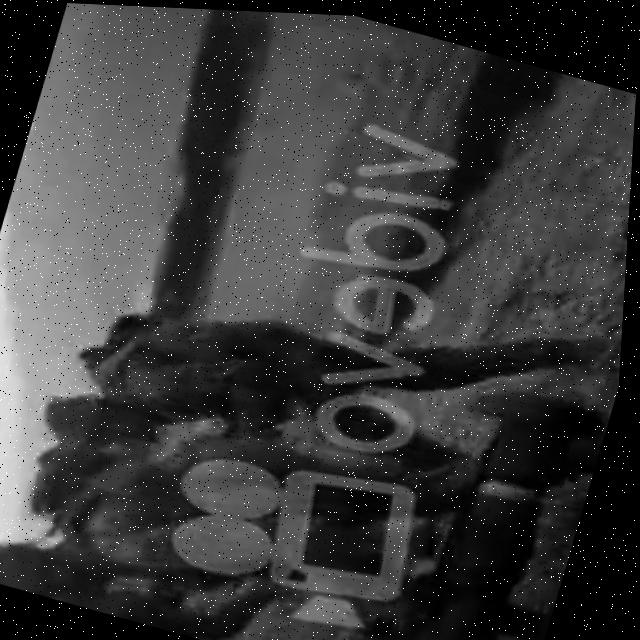rocket: (354, 348, 619, 640)
